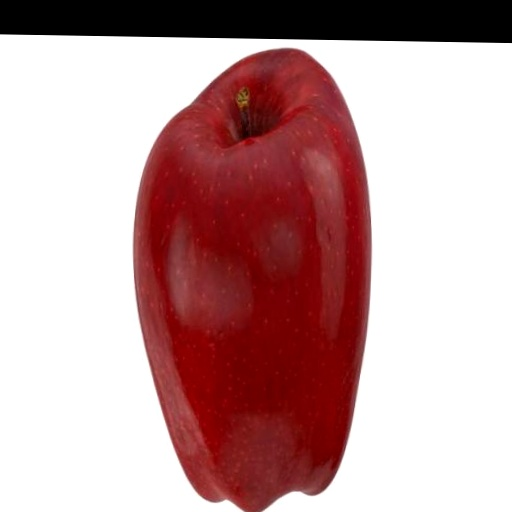fruit: (134, 49, 370, 512)
